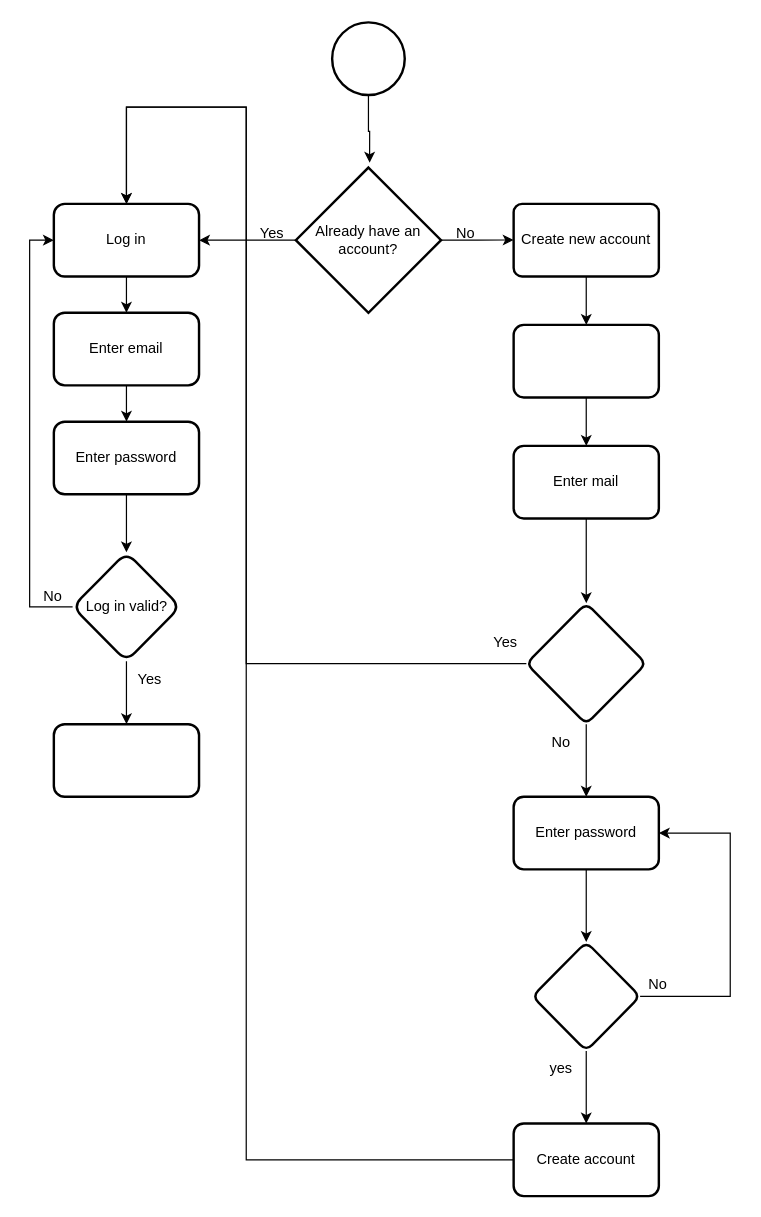
Some shapes in this 761 by 1217 pixel diagram are drawn without their labels. Each missing label, with the box of its shape:
Access granted: (52, 722, 200, 797)
Email exists?: (525, 601, 647, 725)
Enter username: (512, 323, 659, 398)
Log in or Sign up: (330, 21, 405, 96)
Password valid?: (531, 940, 641, 1051)
